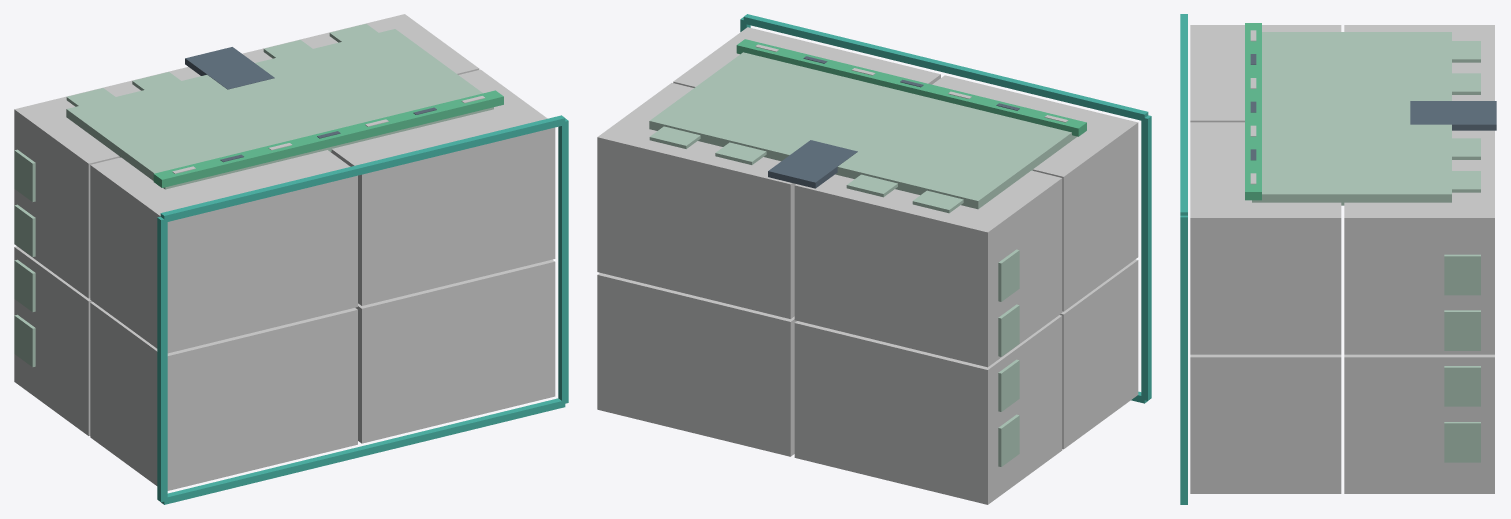
The model's file is building-exchange.glb.
3 views of the same model, side by side, from view 1: azimuth 30°, elevation 25°; view 2: azimuth 150°, elevation 25°; view 3: azimuth 270°, elevation 25° (orthographic).
Parts seen in each view (by area): view 1: world; view 2: world; view 3: world.
Boxes of the visible parts, x1,y1,x2,y2 form: world: [14, 14, 568, 504]; world: [597, 14, 1151, 504]; world: [1180, 14, 1496, 504].
Size of the model in its own units: 15.5 by 10.72 by 10.27.
